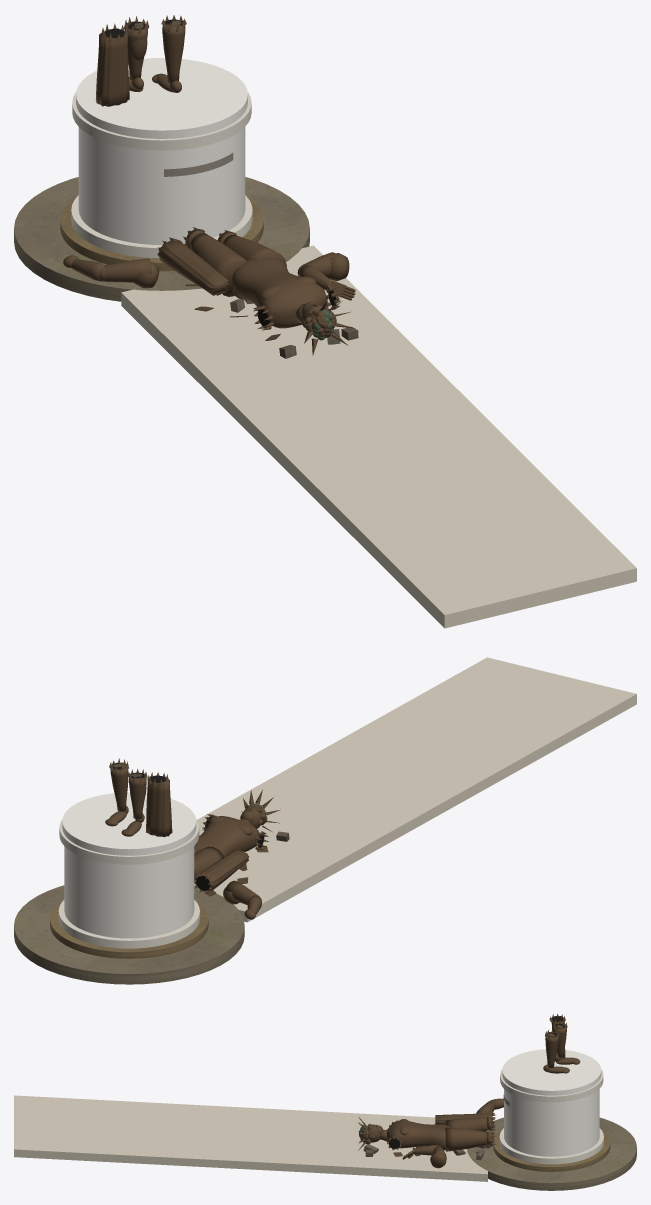
The model's file is colossus-ruin.glb.
3 views of the same model, one above another, from view 1: azimuth 30°, elevation 25°; view 2: azimuth 150°, elevation 25°; view 3: azimuth 270°, elevation 25° (orthographic). The views are drawn at different scales.
Bounding box in the file's own units: 3.9 × 2.64 × 11.7.
12 materials, 5 textured.
